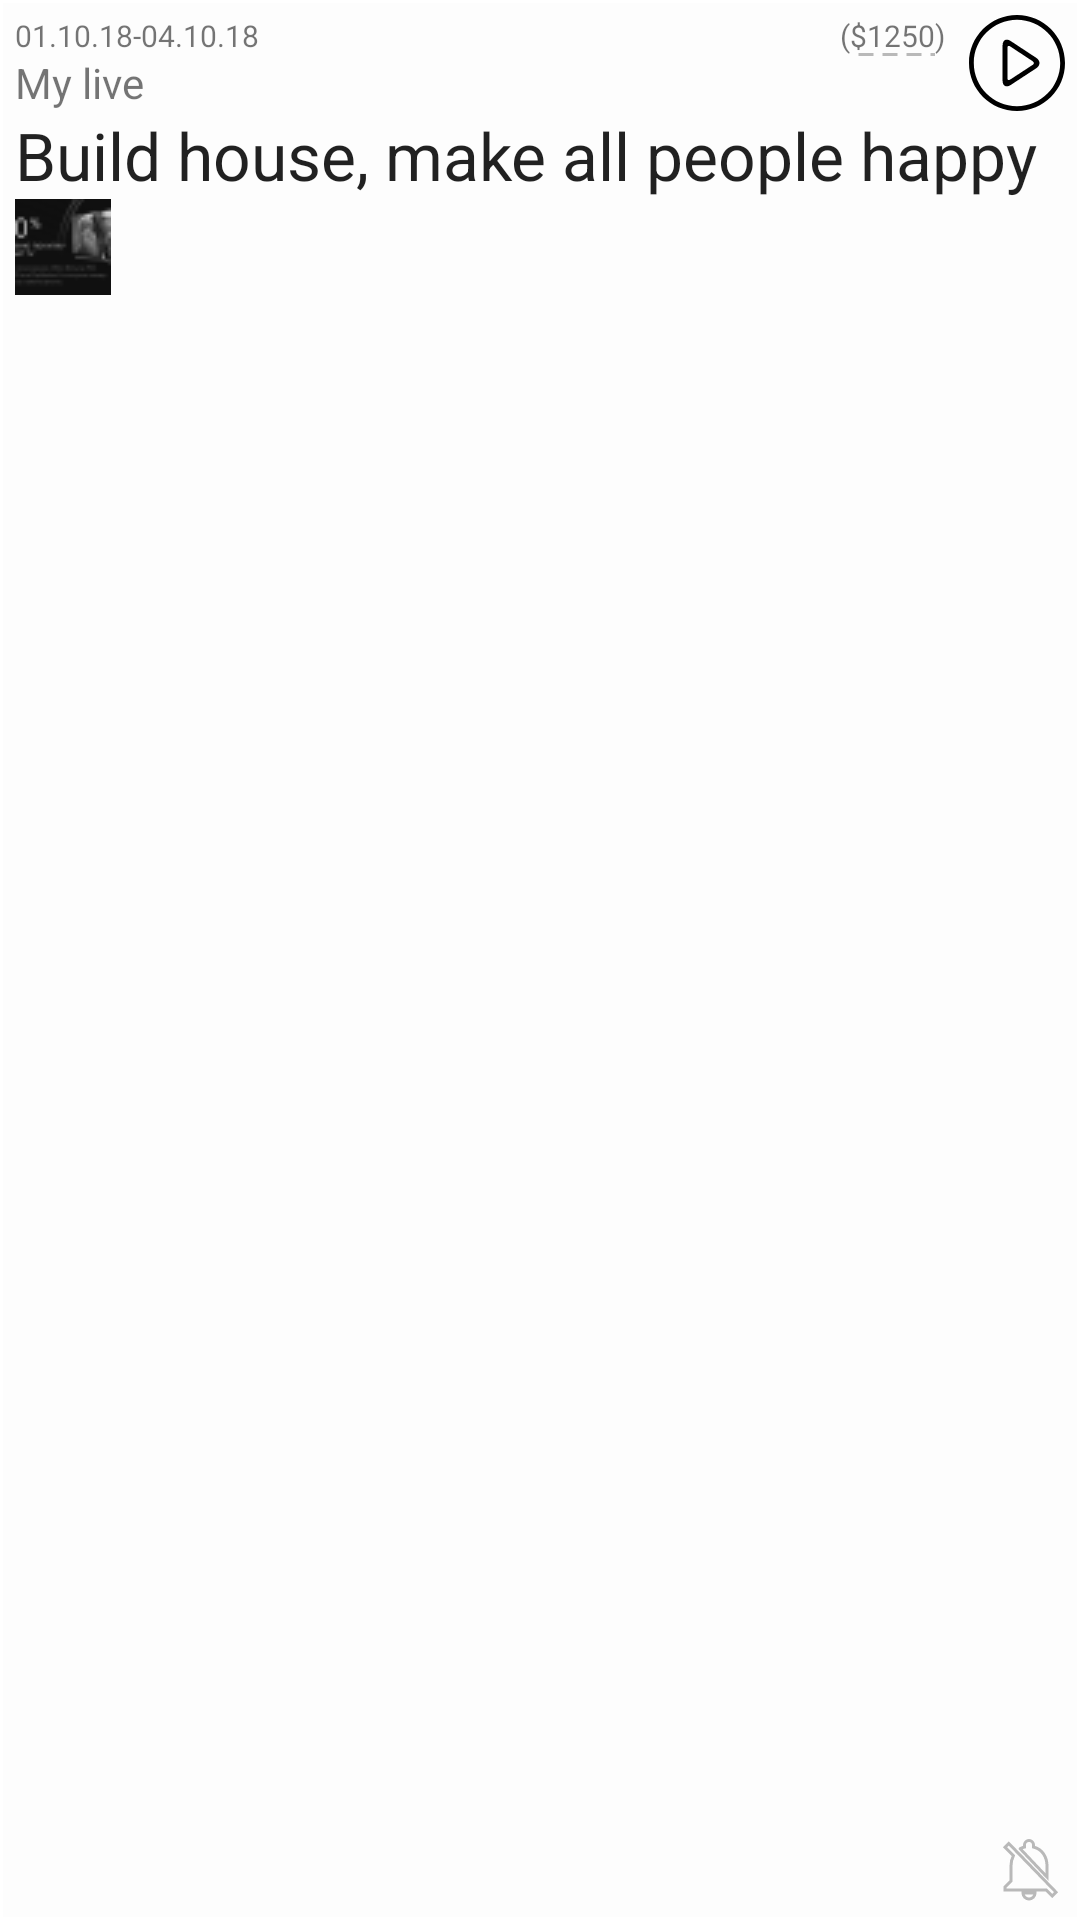

Named icons in this screenshot (1080px x 1920px) and their bounding boxes, (x1, y1, x2, y2):
notifications off: (1003, 1839, 1058, 1901)
play: (969, 15, 1065, 111)
square photo: (15, 199, 111, 295)
